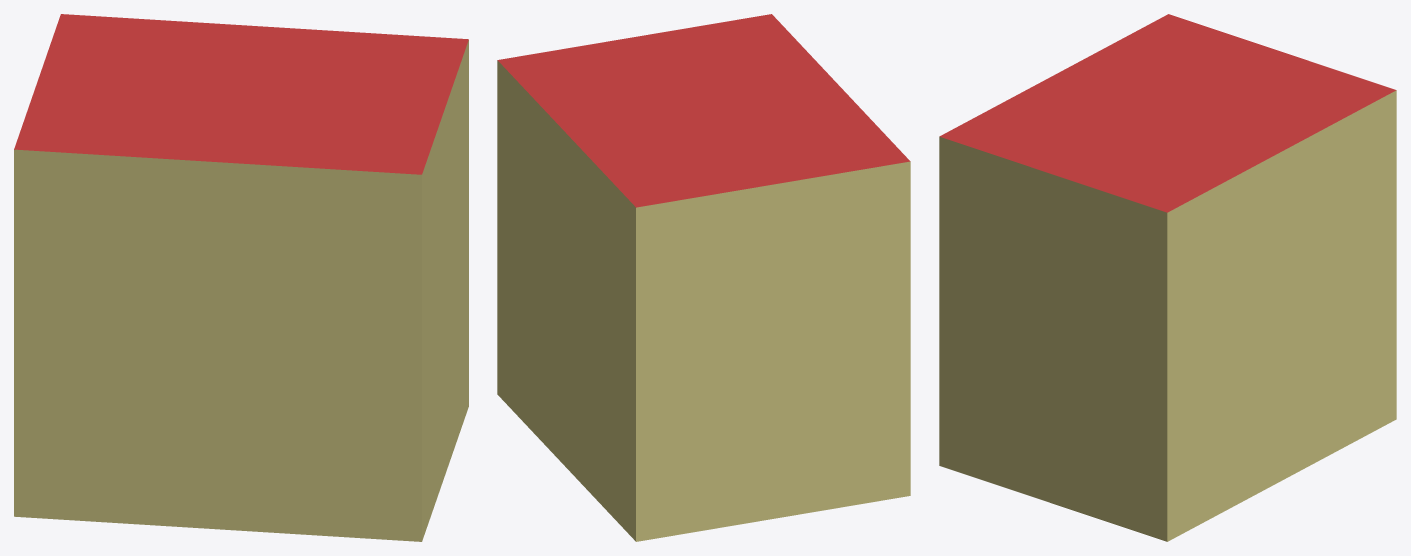
3 renders of one model, left to right at view 1: azimuth 30°, elevation 25°; view 2: azimuth 150°, elevation 25°; view 3: azimuth 270°, elevation 25°, orthographic. The views are drawn at different scales.
Bounding box in the file's own units: 6.94 × 6.75 × 5.36.
